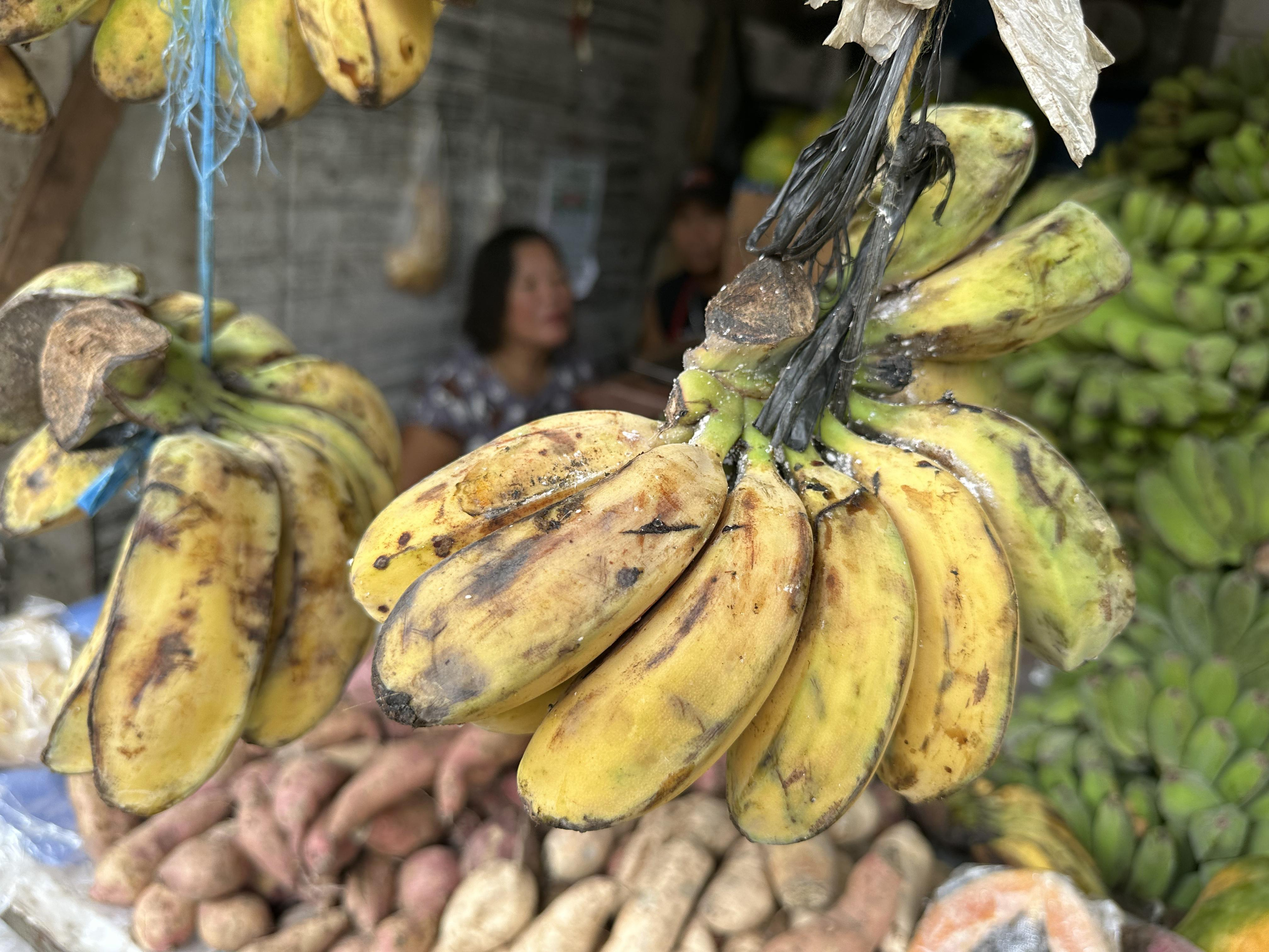underripe: (347, 400, 1138, 845), (40, 310, 406, 817)
